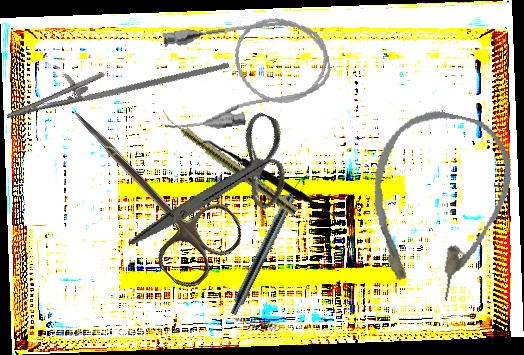Cannula: (351, 100, 522, 309), (151, 8, 337, 137)
Handpiece: (157, 108, 300, 217), (227, 169, 311, 318)
Iris Scissors: (40, 84, 252, 296), (127, 84, 308, 292)
Needle Holder: (0, 19, 230, 146)
Spatula Surgical: (195, 133, 347, 227)
